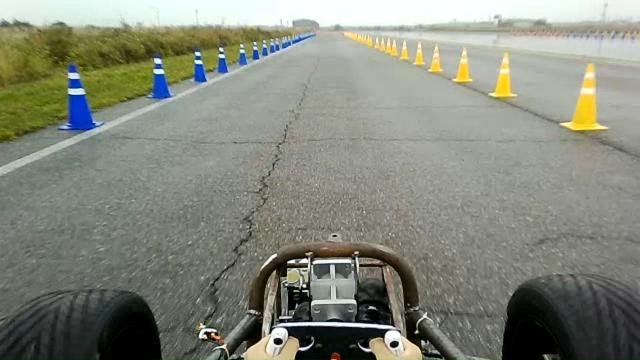blue cone: (57, 62, 104, 131), (146, 52, 173, 99), (192, 47, 207, 83), (216, 44, 229, 74), (237, 42, 248, 66), (251, 41, 260, 60), (261, 39, 269, 56)
yellow cone: (559, 63, 609, 131), (488, 51, 517, 98), (452, 46, 473, 83), (428, 43, 442, 73), (413, 40, 425, 66), (399, 39, 409, 60), (390, 39, 398, 56)
